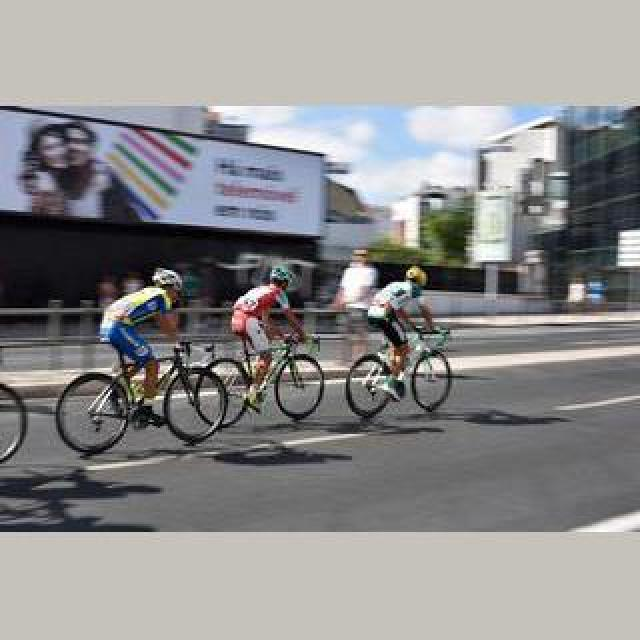MC-Bike: (24, 124, 144, 222), (102, 266, 184, 402), (230, 268, 304, 398), (372, 264, 436, 382), (330, 248, 382, 362)
Person: (56, 340, 228, 454), (206, 332, 326, 434), (346, 328, 454, 420), (0, 384, 26, 466)
